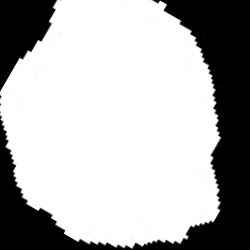spot: (2, 2, 220, 246)
